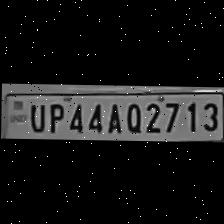1: (178, 98, 198, 132)
2: (141, 98, 161, 133)
3: (198, 98, 220, 132)
4: (83, 98, 103, 132), (64, 99, 84, 132)
7: (160, 97, 180, 132)
A: (101, 99, 121, 133)
P: (43, 100, 63, 132)
Q: (122, 100, 142, 134)
U: (24, 100, 46, 131)
